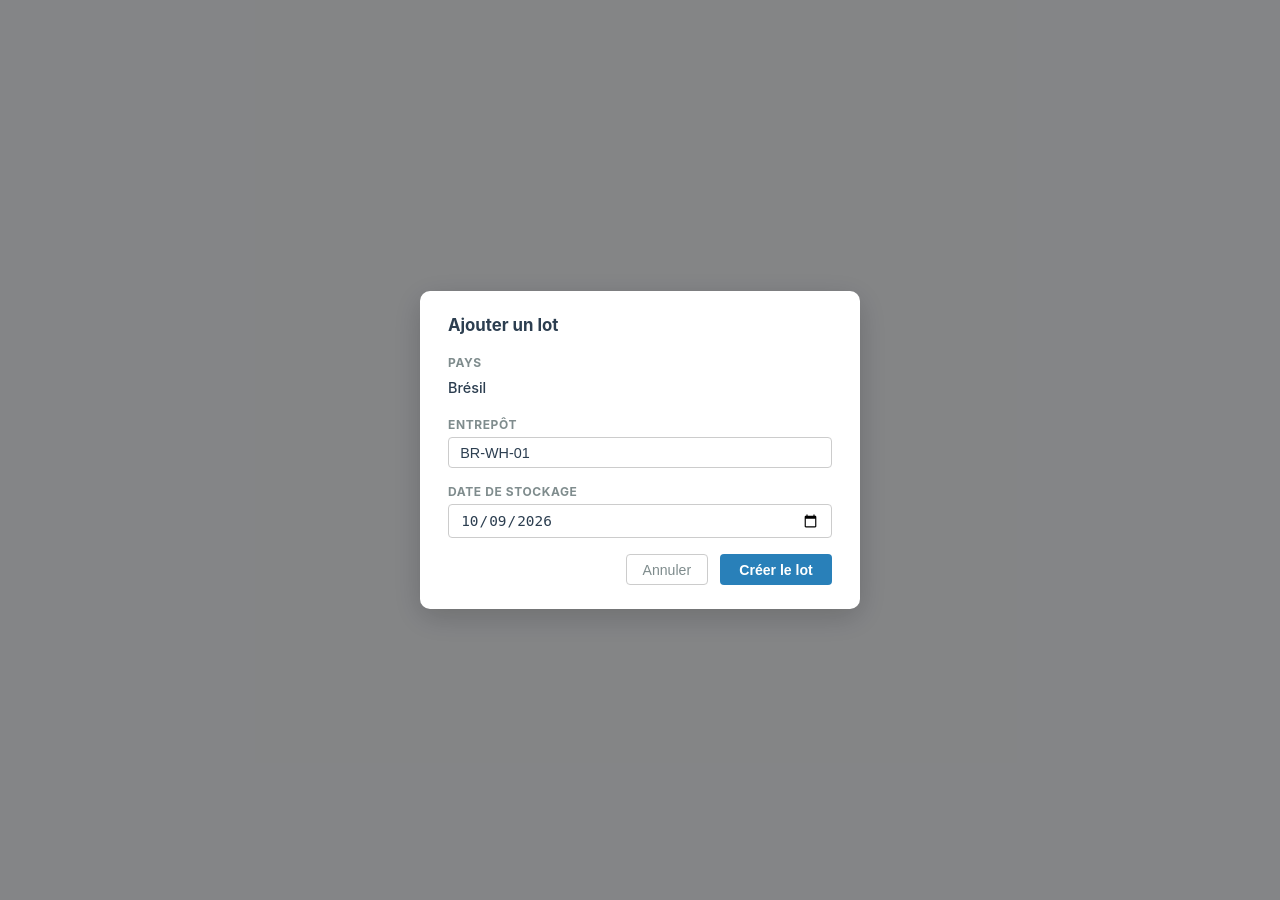
it: CreateLotForm › F9d – affiche un message d'erreur si l'API échoue
Step 1. Click the button "Créer le lot" → click(776, 570), box [720, 554, 832, 585]
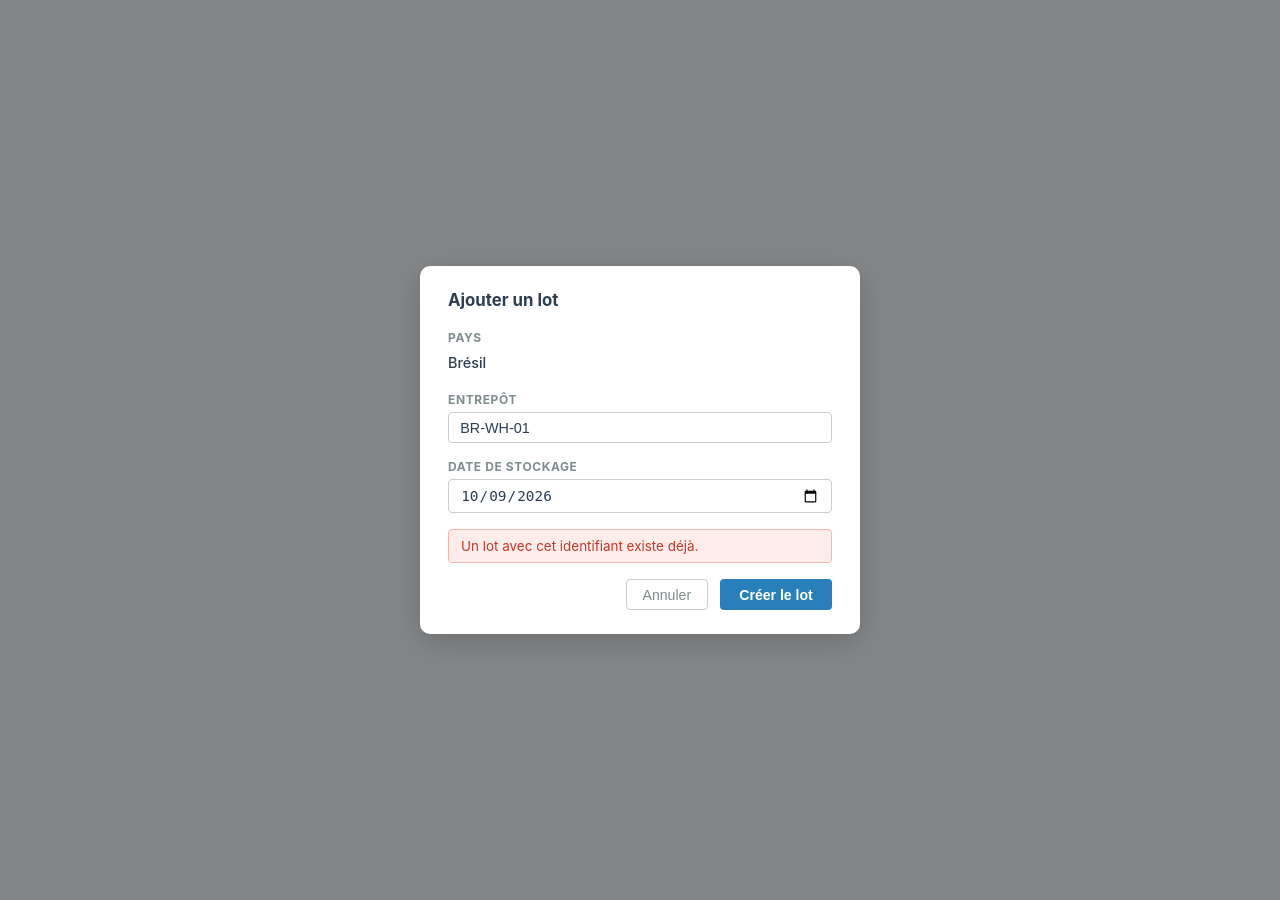
Expected: the text "Un lot avec cet identifiant existe déjà." is shown, [448, 529, 832, 563]
